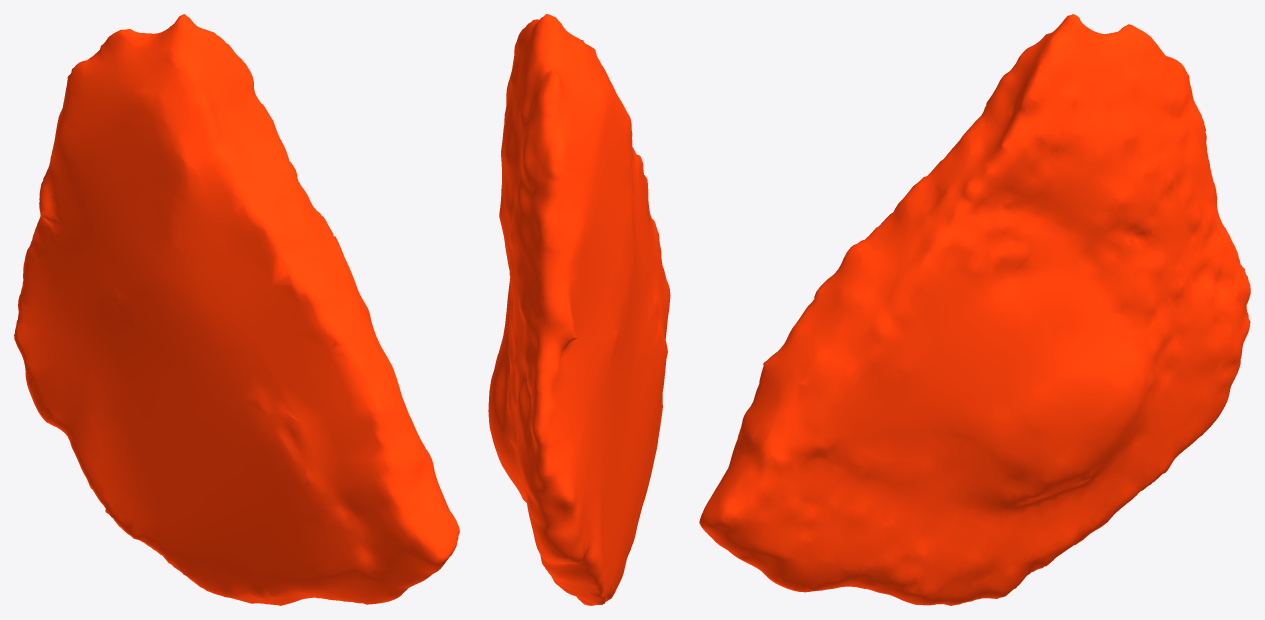
3 renders of one model, left to right at view 1: azimuth 30°, elevation 25°; view 2: azimuth 150°, elevation 25°; view 3: azimuth 270°, elevation 25°, orthographic. The views are drawn at different scales.
Visible parts, largest first — view 1: Object_1; view 2: Object_1; view 3: Object_1.
Boxes of the visible parts, x1=… form: Object_1: x1=14, y1=14, x2=459, y2=605; Object_1: x1=488, y1=14, x2=670, y2=605; Object_1: x1=699, y1=14, x2=1250, y2=605.
Bounding box in the file's own units: 417 × 1052 × 899.
